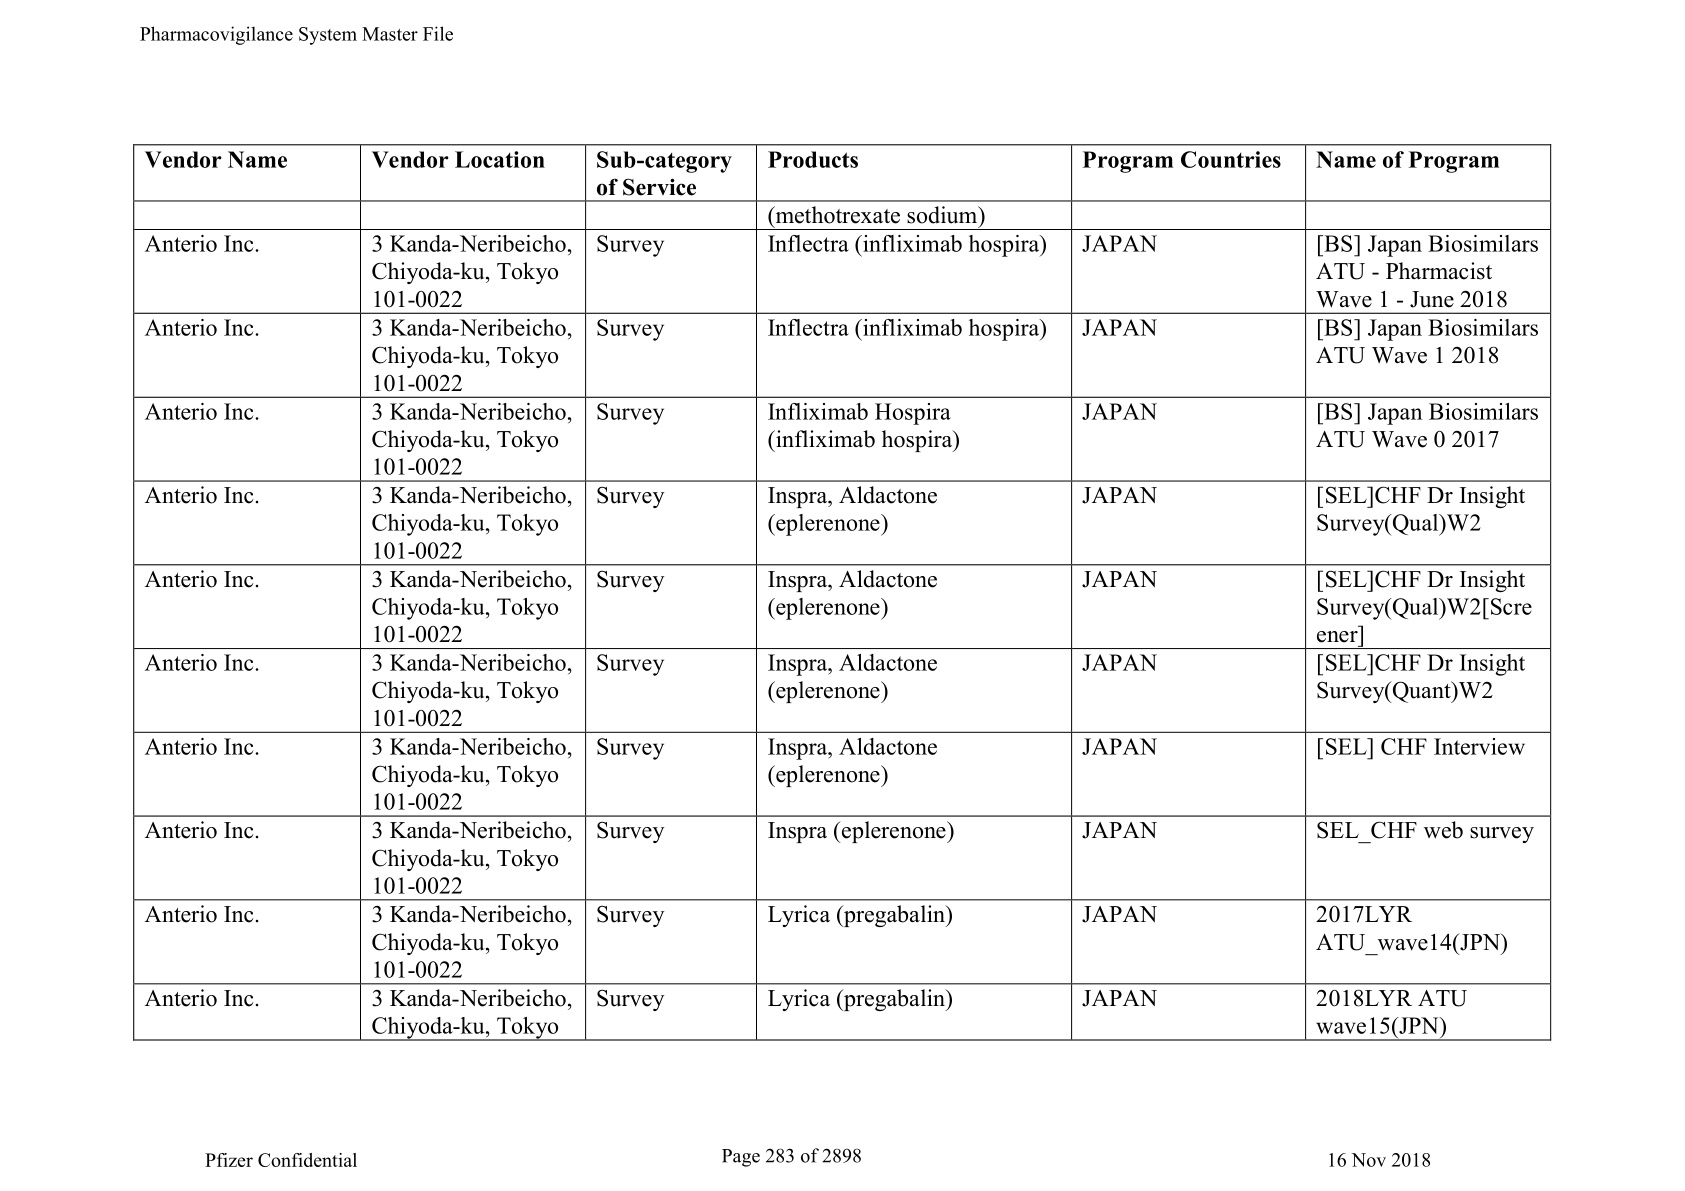full_lined: (133, 144, 1552, 1041)
